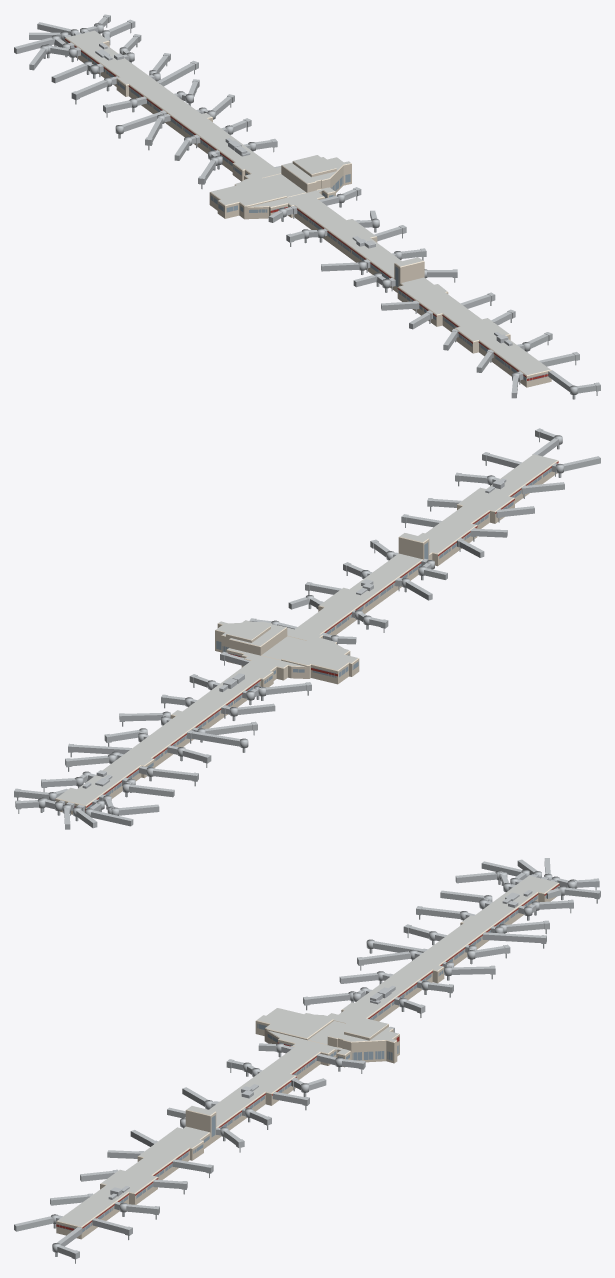
The model's file is atl-hartsfield-jackson-concourse-d.detail.glb.
3 renders of one model, top to bottom at view 1: azimuth 30°, elevation 25°; view 2: azimuth 150°, elevation 25°; view 3: azimuth 330°, elevation 25°, orthographic. The views are drawn at different scales.
Visible parts, largest first — view 1: Hartsfield-Jackson Concourse D; view 2: Hartsfield-Jackson Concourse D; view 3: Hartsfield-Jackson Concourse D.
Part boxes in pixels (bbox=[...]): Hartsfield-Jackson Concourse D: bbox=[14, 14, 600, 399]; Hartsfield-Jackson Concourse D: bbox=[14, 428, 600, 829]; Hartsfield-Jackson Concourse D: bbox=[14, 858, 600, 1263].
Bounding box in the file's own units: 105 × 21.4 × 707.
